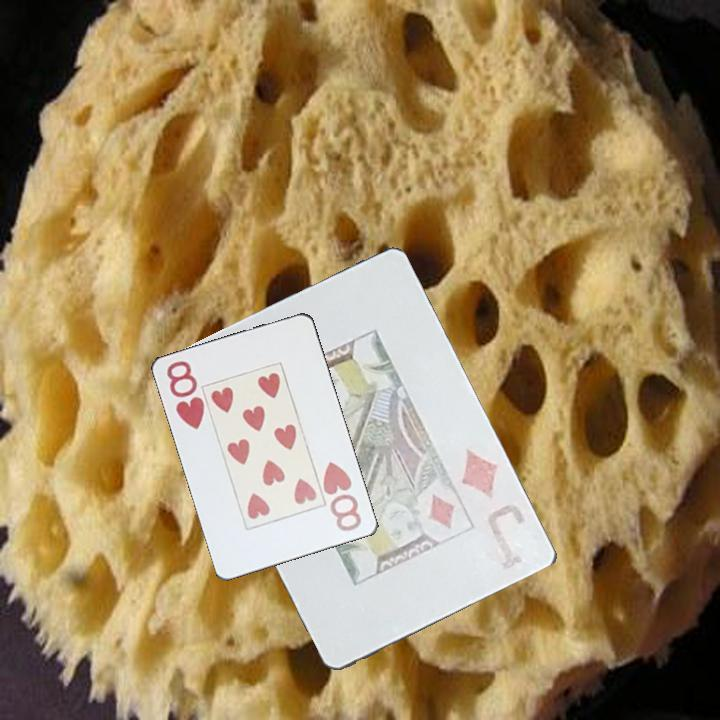8h: (320, 458, 365, 535), (163, 357, 208, 433)
Jd: (458, 446, 532, 573)
